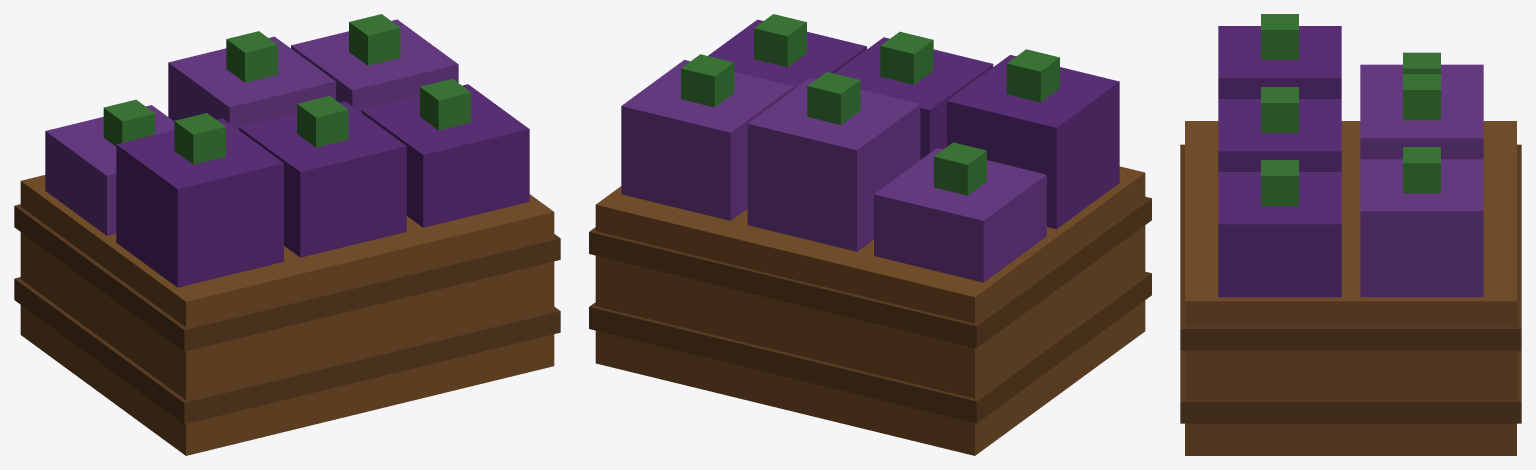
File: cp-crate-eggplant.glb
3 renders of one model, left to right at view 1: azimuth 30°, elevation 25°; view 2: azimuth 150°, elevation 25°; view 3: azimuth 270°, elevation 25°, orthographic. The views are drawn at different scales.
Parts seen in each view (by area): view 1: box-prop; view 2: box-prop; view 3: box-prop.
Part boxes in pixels (x1,y1,x2,y2): box-prop: [14, 14, 560, 455]; box-prop: [589, 14, 1151, 455]; box-prop: [1180, 14, 1521, 455].
Size of the model in its own units: 0.92 by 0.66 by 0.72.
